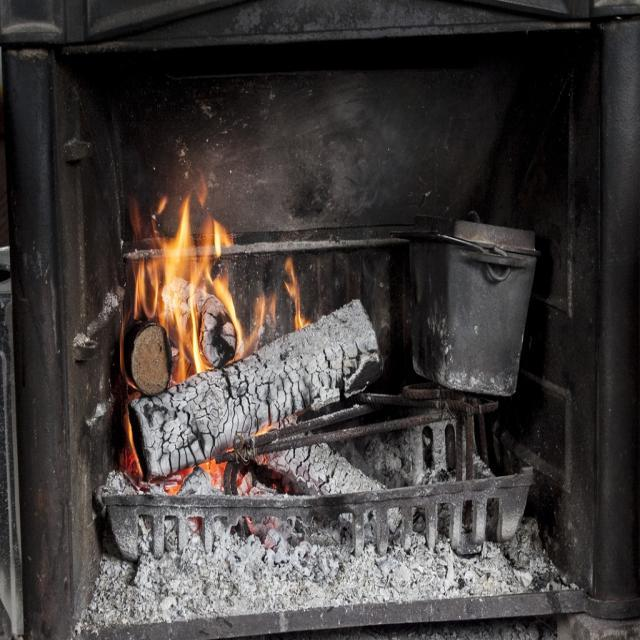Fire: (118, 164, 276, 393), (284, 253, 310, 332), (198, 446, 234, 486), (124, 408, 142, 479)
